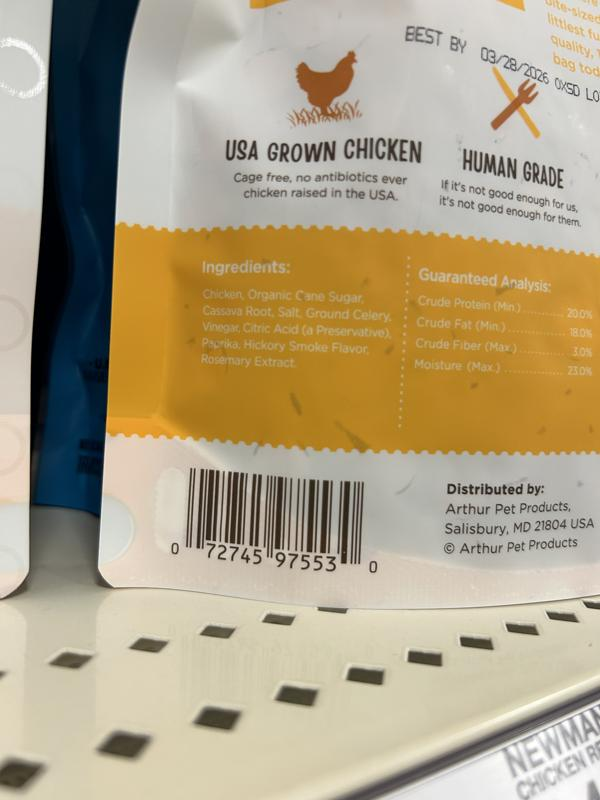ingredients: (198, 259, 393, 372)
